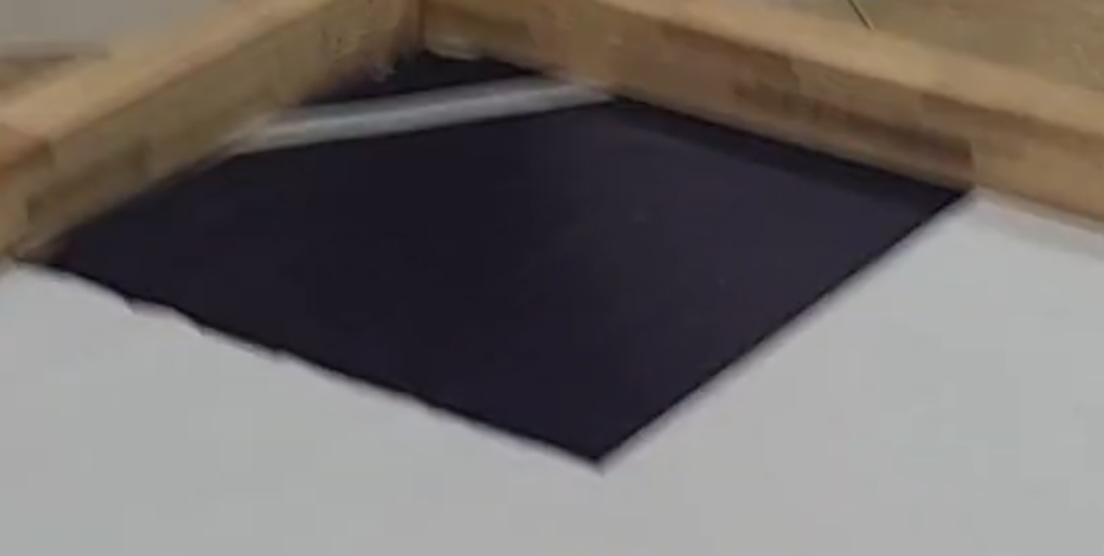blue_base: (14, 44, 968, 461)
